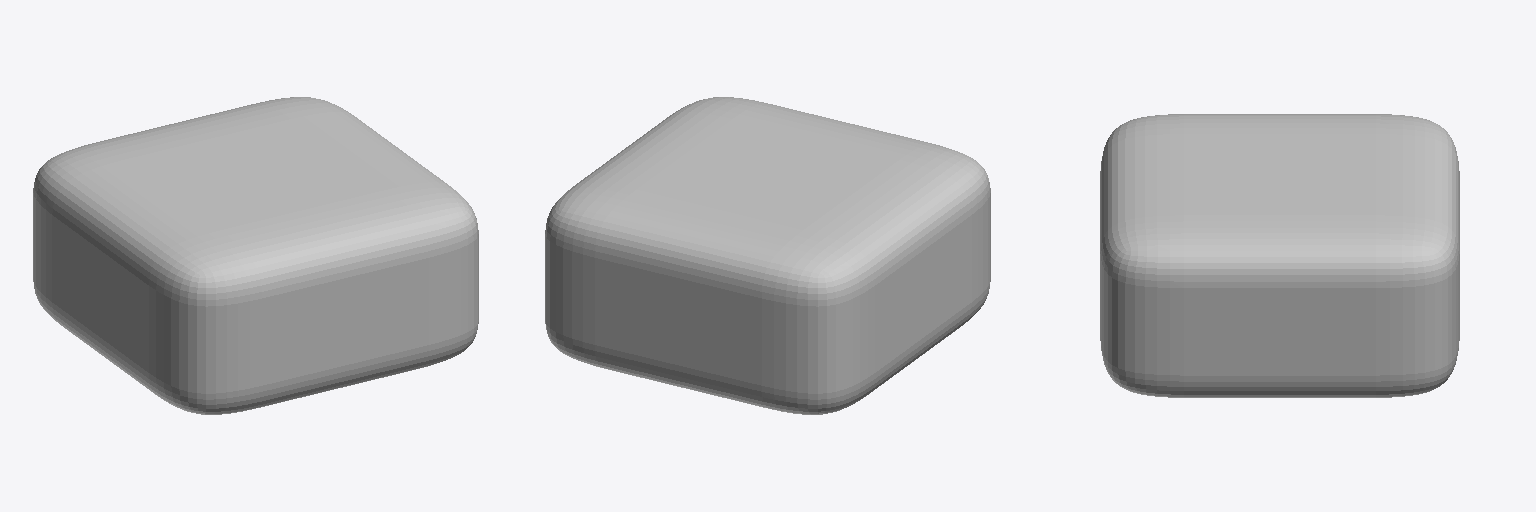
Rendered from Chain Base.obj.
The picture shows the model from 3 angles: view 1: azimuth 30°, elevation 25°; view 2: azimuth 150°, elevation 25°; view 3: azimuth 270°, elevation 25°; orthographic projection.
Parts seen in each view (by area): view 1: Note_Base; view 2: Note_Base; view 3: Note_Base.
Boxes of the visible parts, <box> form: Note_Base: <box>33,97,478,414</box>; Note_Base: <box>545,97,990,414</box>; Note_Base: <box>1100,114,1459,397</box>.
Bounding box in the file's own units: 0.4988 × 0.2494 × 0.4988.